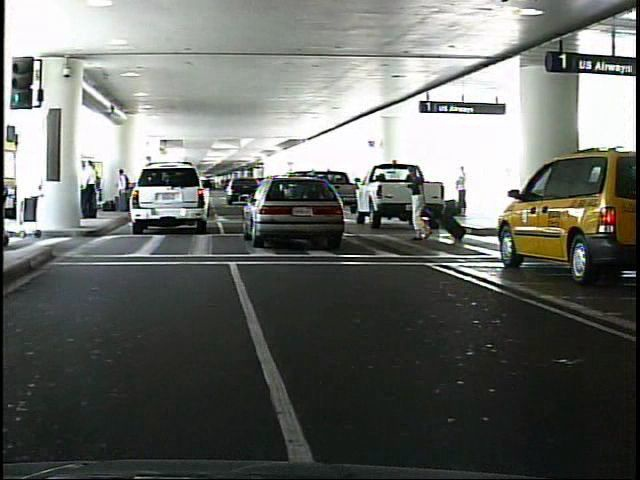person: (409, 164, 434, 245), (86, 159, 101, 218), (121, 166, 136, 219), (457, 163, 469, 211)
